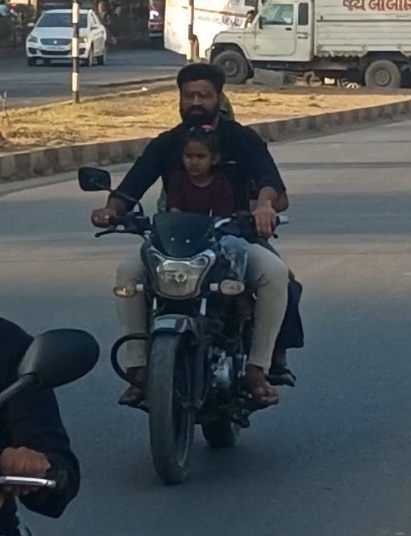BikeWithRider: (70, 56, 314, 491)
NoHelmet: (165, 58, 234, 129), (168, 123, 229, 182)
